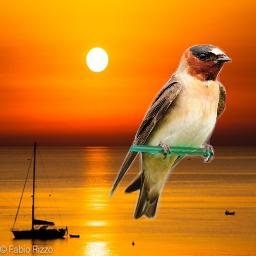Swallow: (108, 44, 232, 220)
